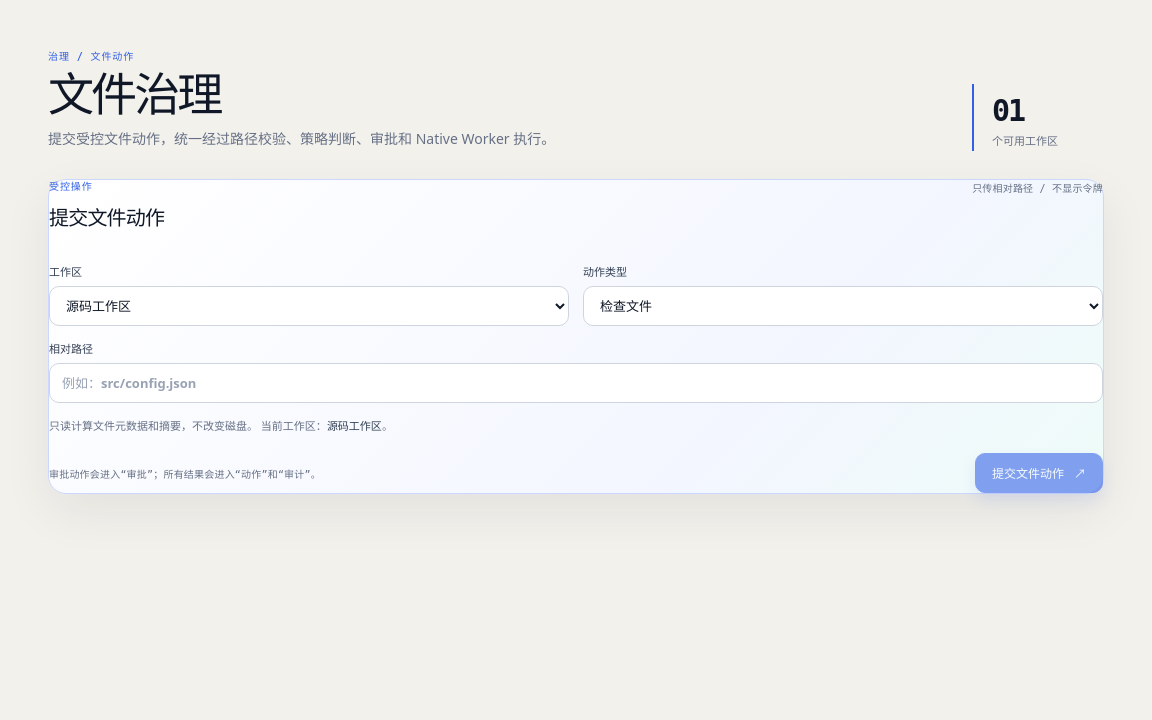
Test: FileGovernancePage › submits an explicitly selected file action without legacy copy
The width and height of the screenshot is (1152, 720).
Expected: the heading "文件治理" is shown, [48,62,220,125]
Step 1. Type "README.md" into the field labelled "相对路径" → (576, 383), box [49,363,1103,403]
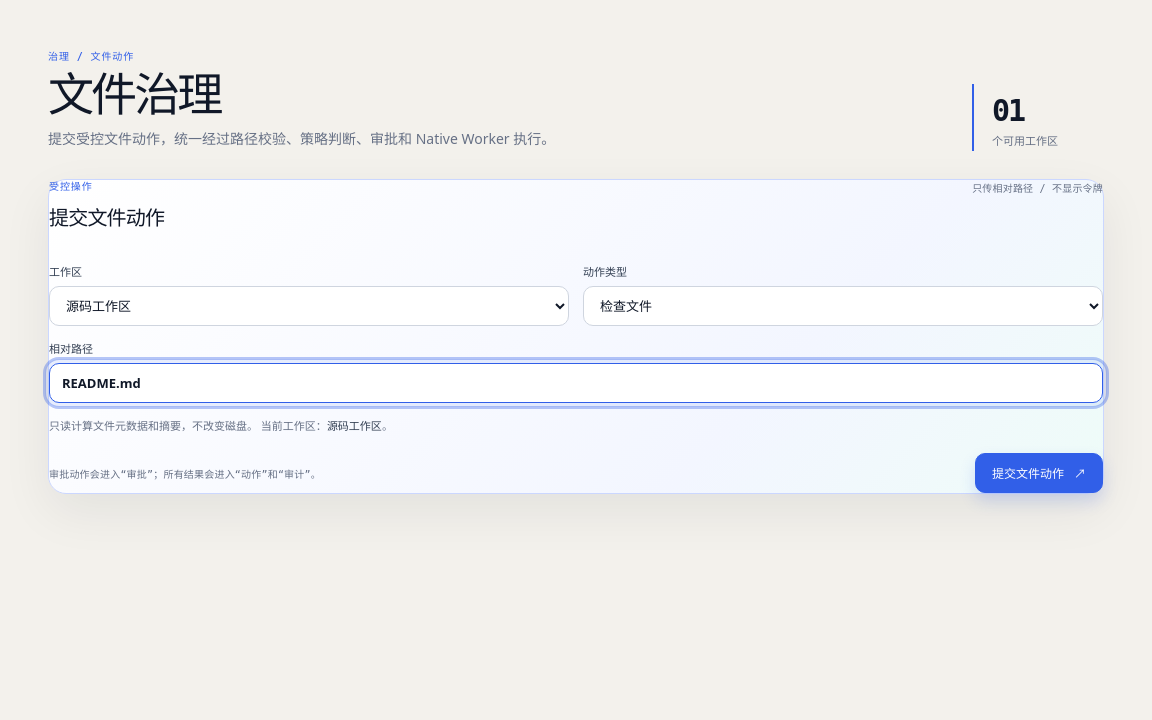
Step 2. Click the button "提交文件动作 ↗" → (1039, 473), box [975,453,1103,493]
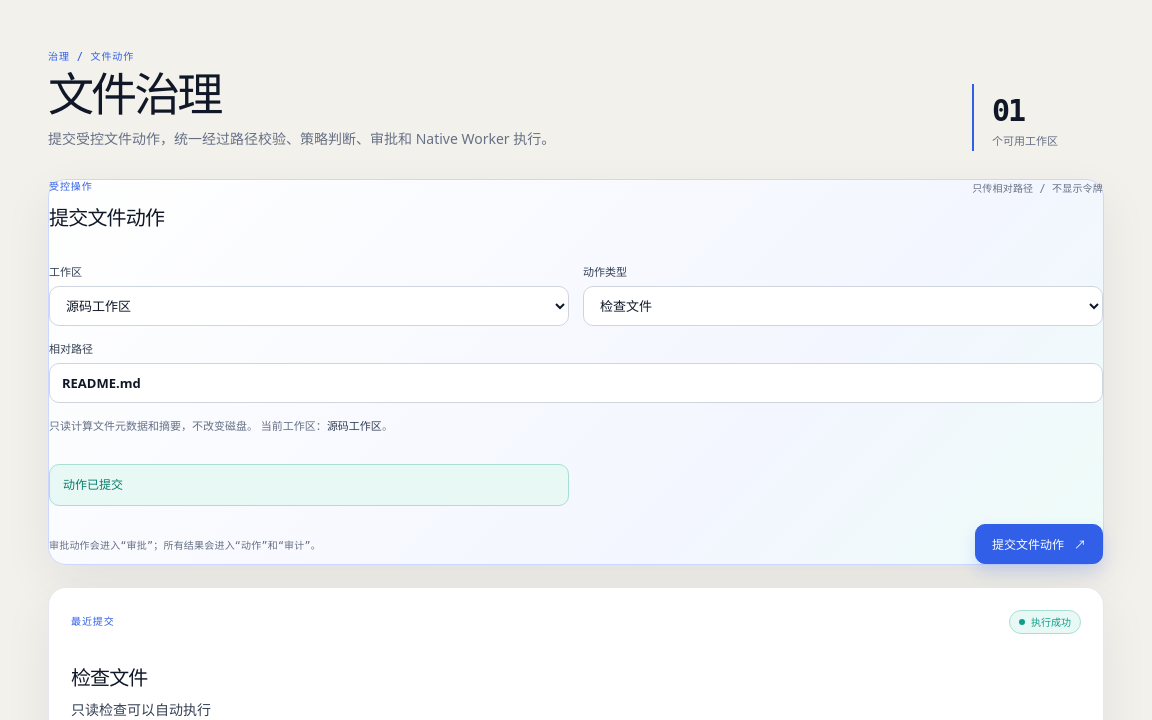
Expected: the text "动作已提交" is shown, [49,464,569,506]
Expected: the heading "检查文件" is shown, [71,664,147,691]
